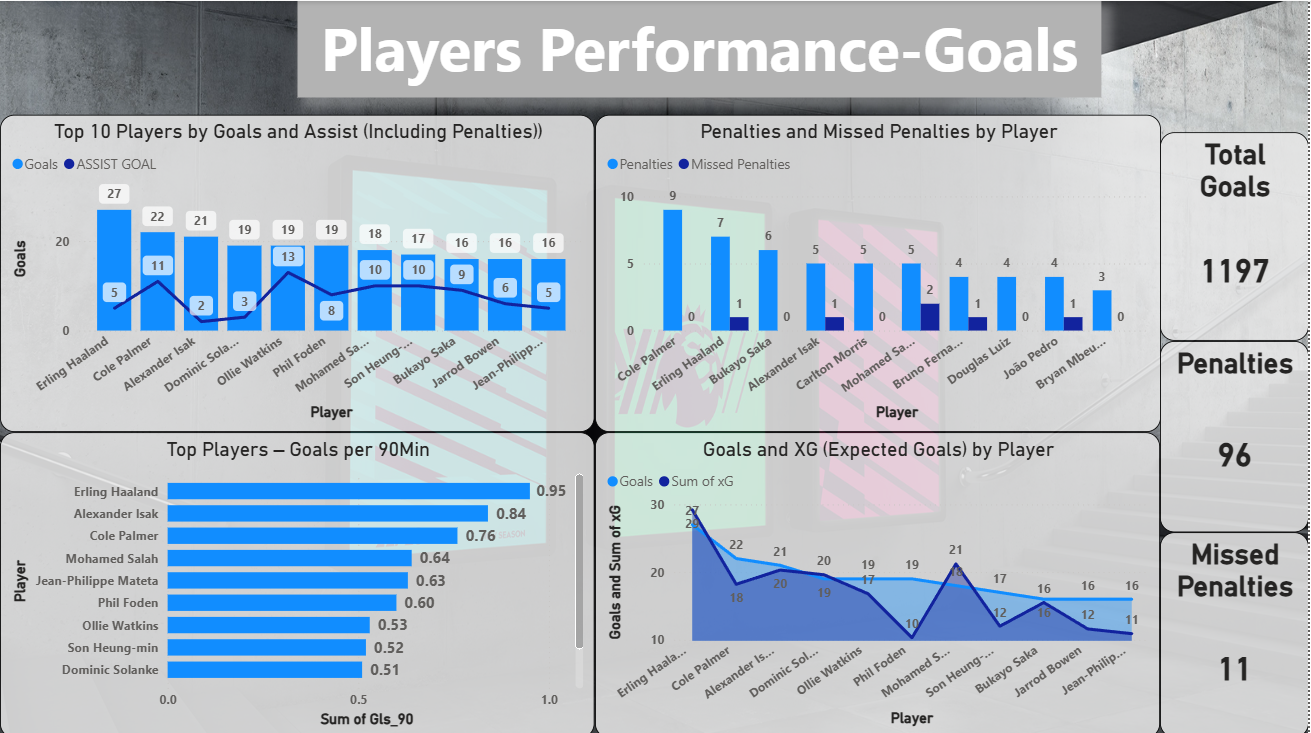

The page's visual inventory and layout, read from the dashboard file:
{"tool":"powerbi","page":{"name":"Page 4","canvas":[1280,720],"ordinal":3},"visuals":[{"type":"image","box":[0,0,1280.3,720.2],"z":0},{"type":"lineClusteredColumnComboChart","title":"Top 10 Players by Goals and Assist (Including Penalties))","fields":{"Category":["premier-player-23-24.Player"],"Y":["ALL_MEASURES.Goals"],"Y2":["ALL_MEASURES.ASSIST GOAL"]},"box":[0,111.3,581.6,310.3],"z":1000},{"type":"textbox","box":[291,0,786.3,94.2],"z":2000},{"type":"areaChart","title":"Goals and XG (Expected Goals) by Player","fields":{"Category":["premier-player-23-24.Player"],"Y":["ALL_MEASURES.Goals","premier-player-23-24.xG"]},"box":[581.8,421.3,553,299.1],"z":3000},{"type":"barChart","title":"Top Players – Goals per 90Min","fields":{"Category":["premier-player-23-24.Player"],"Y":["premier-player-23-24.Gls_90"]},"box":[0,421.3,581.8,299.1],"z":4000},{"type":"clusteredColumnChart","fields":{"Category":["premier-player-23-24.Player"],"Y":["ALL_MEASURES.Penalties","ALL_MEASURES.Missed Penalties"]},"box":[581.6,111.3,553.7,310.3],"z":5000},{"type":"card","title":"Total Goals","fields":{"Values":["ALL_MEASURES.Goals"]},"box":[1134.8,128.4,145.5,204.2],"z":6000},{"type":"card","title":"Penalties","fields":{"Values":["ALL_MEASURES.Penalties"]},"box":[1134.8,332.6,145.5,187.1],"z":7000},{"type":"card","title":"Missed Penalties","fields":{"Values":["ALL_MEASURES.Missed Penalties"]},"box":[1134.8,519.7,145.5,200.5],"z":8000}]}

Visuals, with their boxes in screenshot pixels (x1, y1, x2, y2), scaled from the page's 1280x720 canvas onto the 1311x733 screenshot:
image: <box>0,0,1310,732</box>
"Top 10 Players by Goals and Assist (Including Penalties))" lineClusteredColumnComboChart: <box>0,113,596,429</box>
textbox: <box>298,0,1103,96</box>
"Goals and XG (Expected Goals) by Player" areaChart: <box>596,429,1162,732</box>
"Top Players – Goals per 90Min" barChart: <box>0,429,596,732</box>
clusteredColumnChart - premier-player-23-24.Player x ALL_MEASURES.Penalties: <box>596,113,1163,429</box>
"Total Goals" card: <box>1162,131,1310,339</box>
"Penalties" card: <box>1162,339,1310,529</box>
"Missed Penalties" card: <box>1162,529,1310,732</box>
